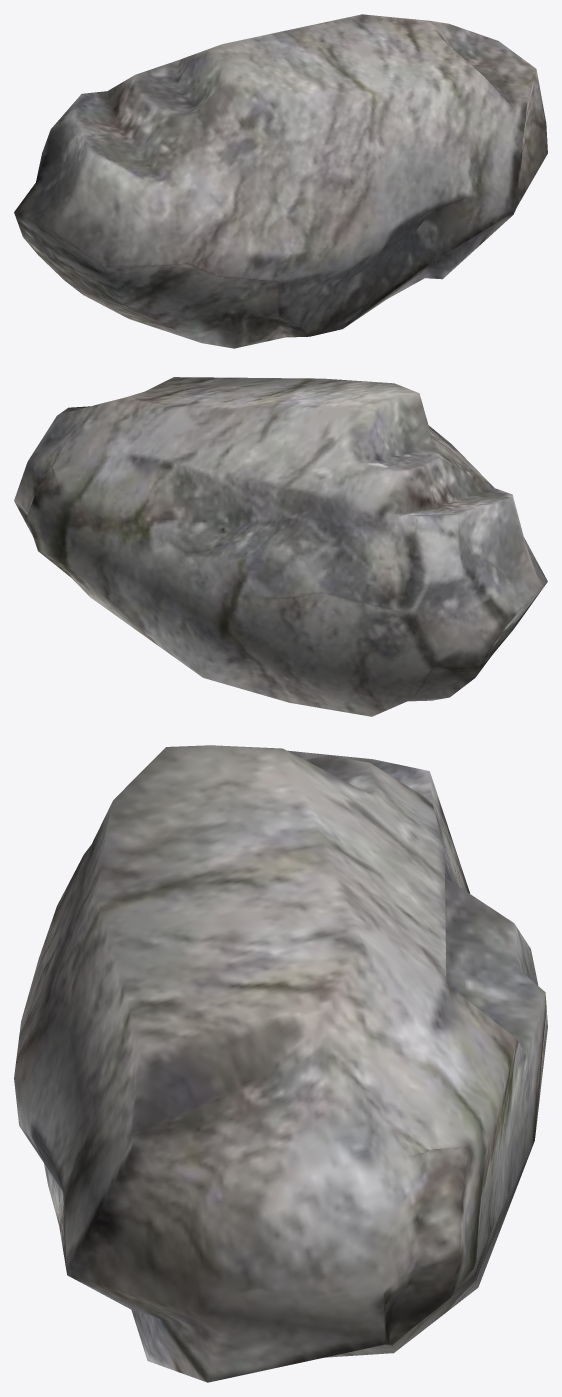
Rendered from stone.worldmodel.glb.
The picture shows the model from 3 angles, top to bottom: view 1: azimuth 30°, elevation 25°; view 2: azimuth 150°, elevation 25°; view 3: azimuth 270°, elevation 25°; orthographic projection. The views are drawn at different scales.
Parts seen in each view (by area): view 1: stone; view 2: stone; view 3: stone.
Part boxes in pixels (x1,y1,x2,y2): stone: (14, 14, 547, 348); stone: (14, 377, 547, 716); stone: (14, 745, 547, 1382).
Size of the model in its own units: 0.4708 by 0.2465 by 0.251.
1 material, 1 textured.
